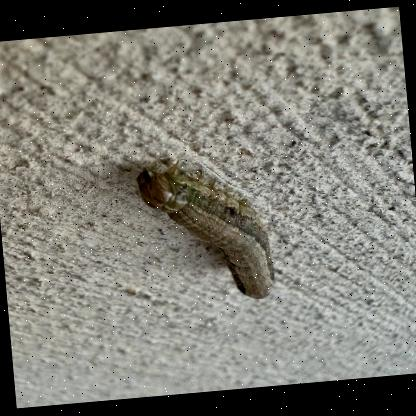Fall Armyworm Larvae: (130, 148, 282, 314)
